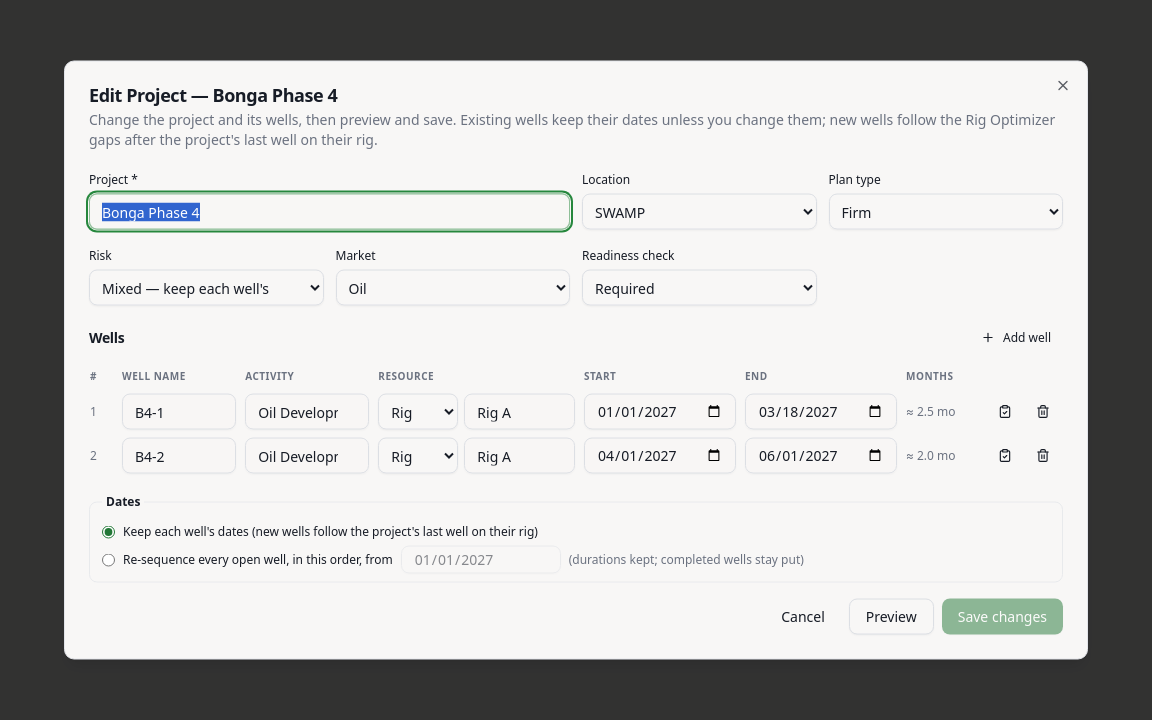
Test: EditProjectDialog › opens a well's readiness, but not over unsaved changes
Click the button named "Open readiness for B4-1": {"x": 1005, "y": 412} [986, 396, 1024, 428]
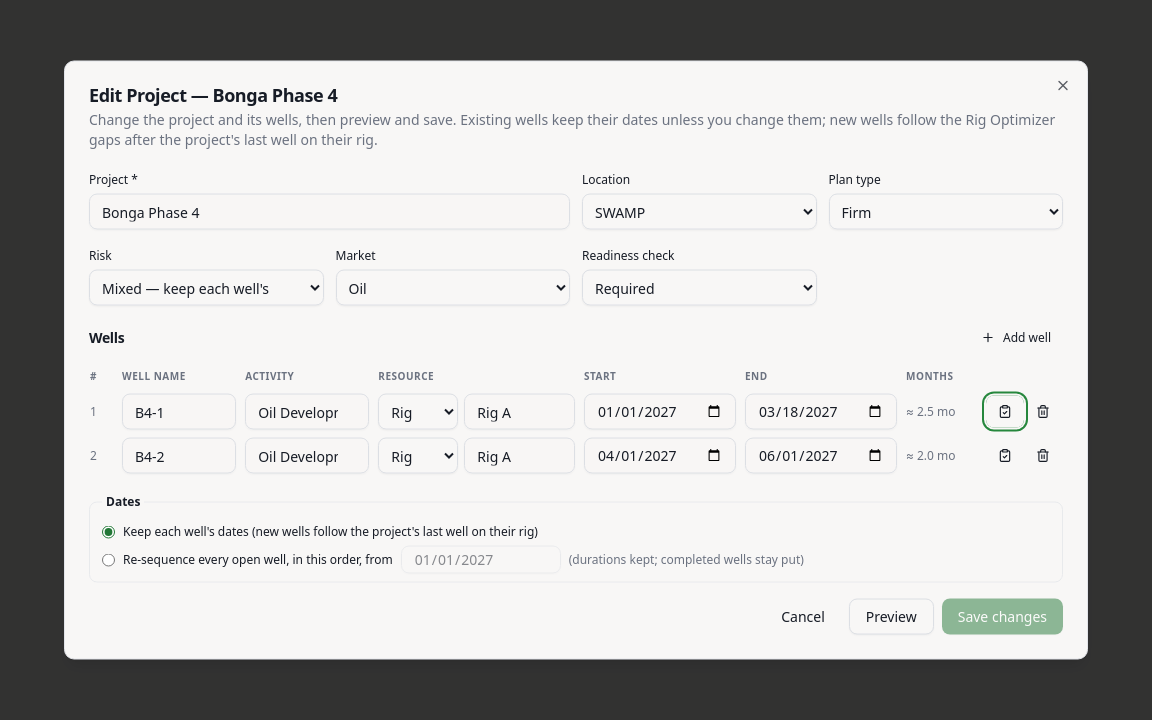
In the field named "Well 2 name": {"x": 179, "y": 456} [122, 438, 236, 474], type "X"
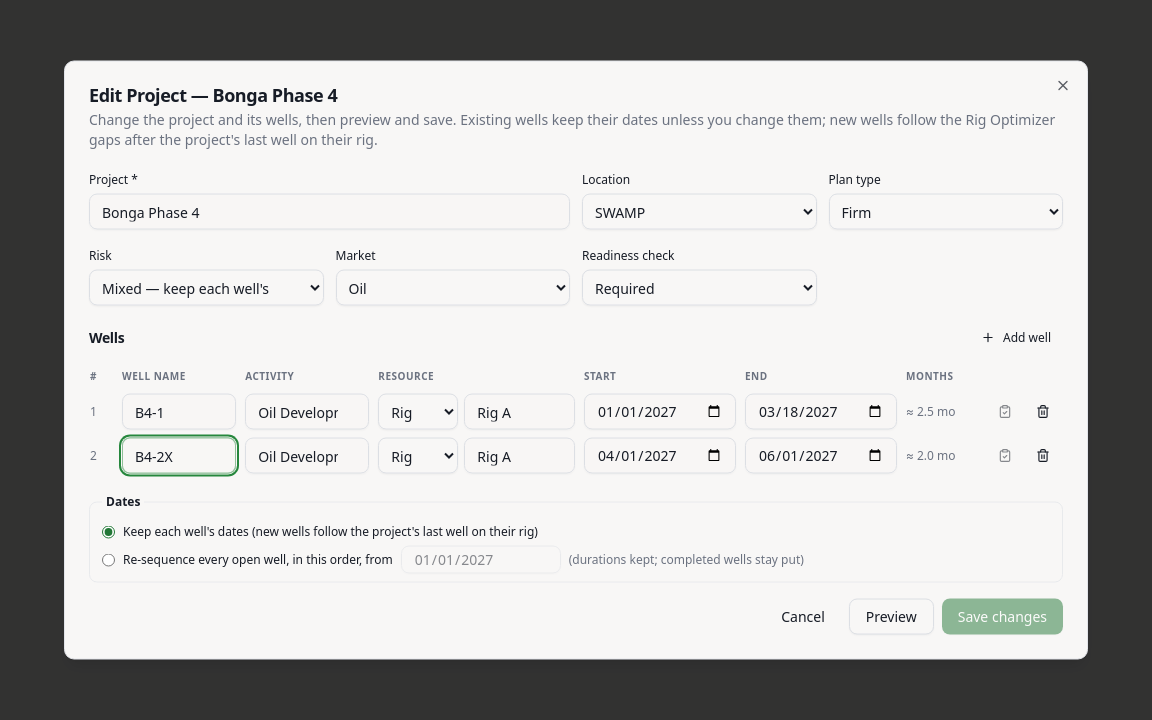
Now the button named "Open readiness for B4-2X" is disabled, box [986, 440, 1024, 472]
